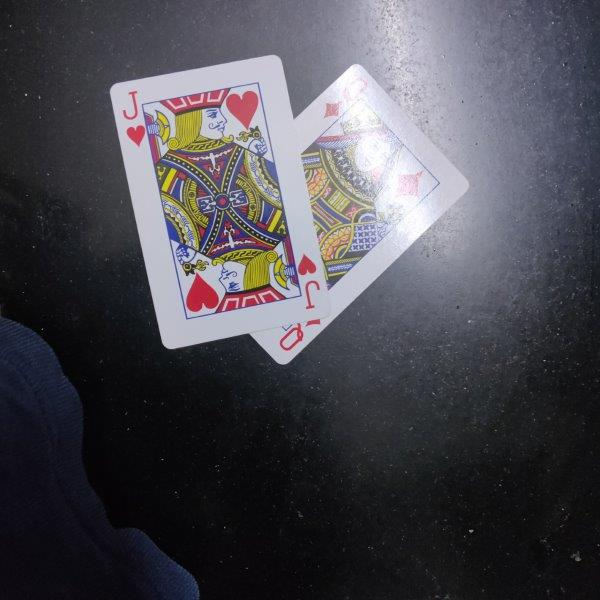Jack of Hearts: (110, 54, 332, 350)
Queen of Diamonds: (249, 63, 471, 368)
